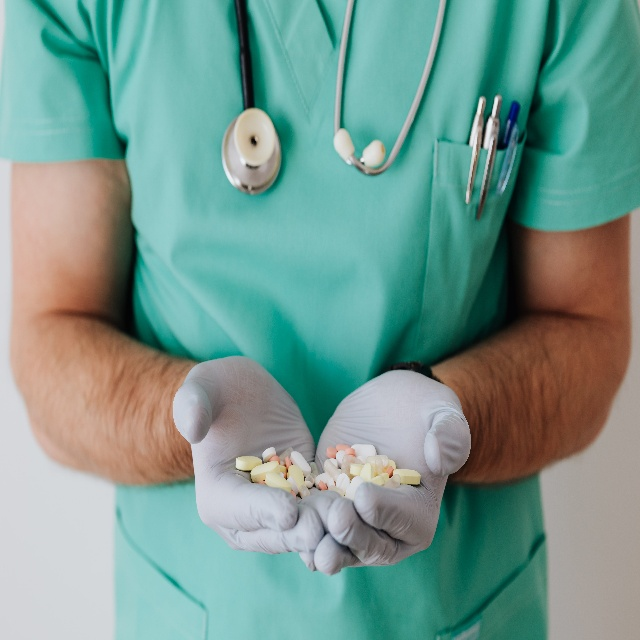Guantes: (172, 357, 340, 571), (304, 369, 472, 577)
